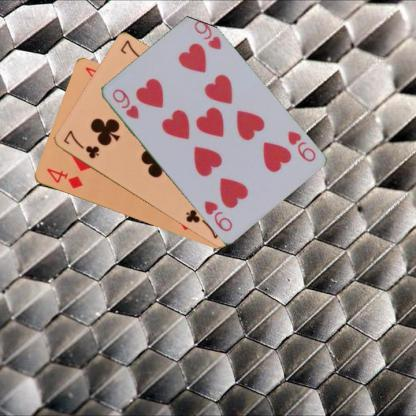4d: (43, 166, 84, 190)
7c: (61, 128, 100, 160)
9h: (284, 127, 317, 164), (109, 86, 142, 121)
